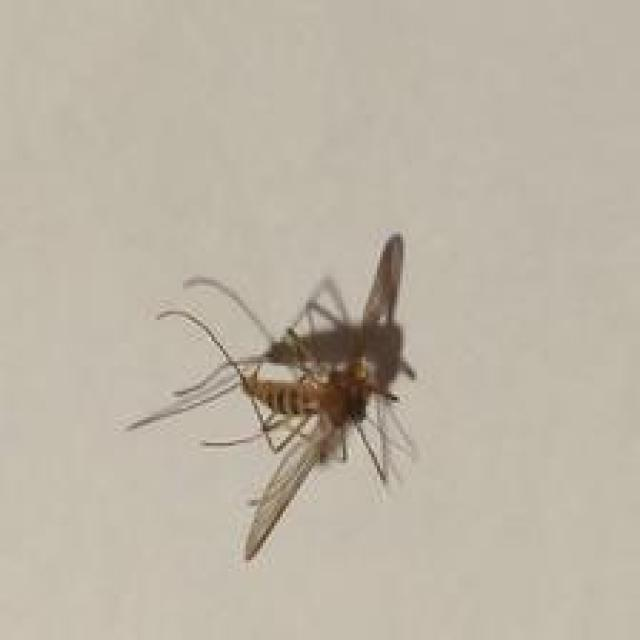Culex: (123, 230, 420, 561)
